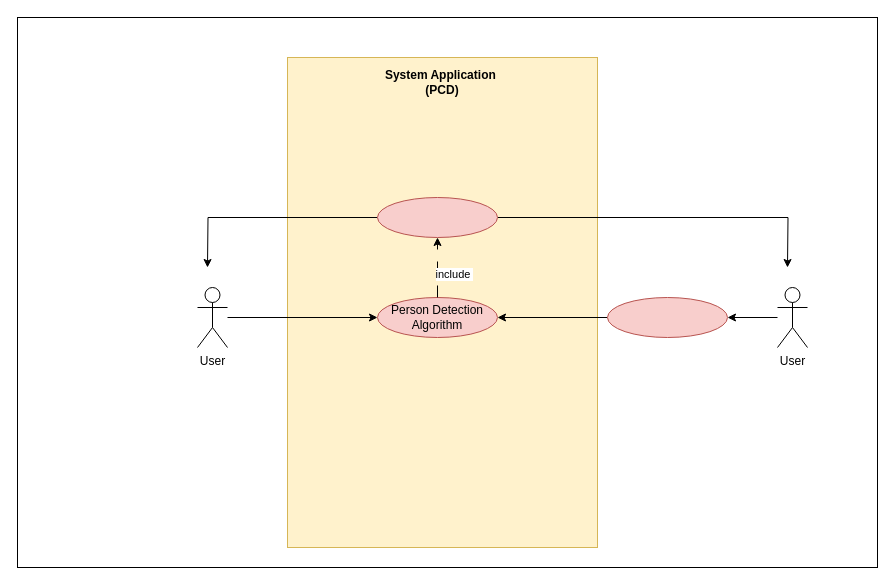
Image size: 895x585. Some labels were removed from this diagram. The box of each missing label's shape, as (x1, y1, x2, y2) in pixels:
Detection Output: (376, 196, 498, 238)
Kinect: (606, 296, 728, 338)
